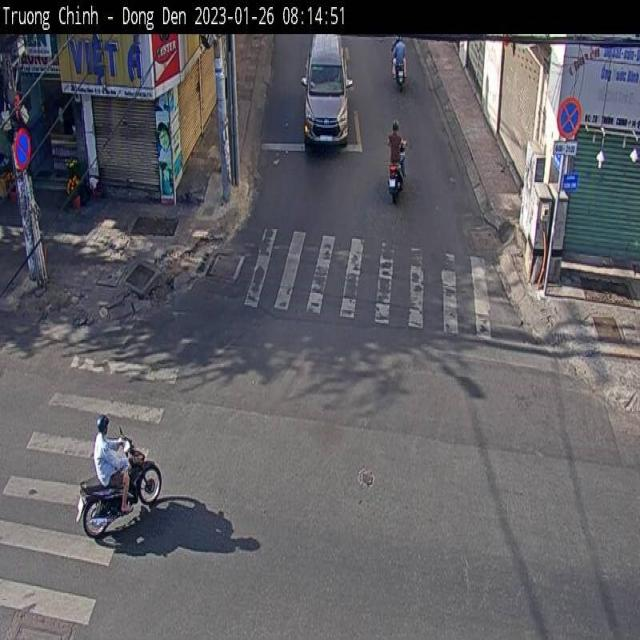with_helmet: (82, 402, 120, 461)
